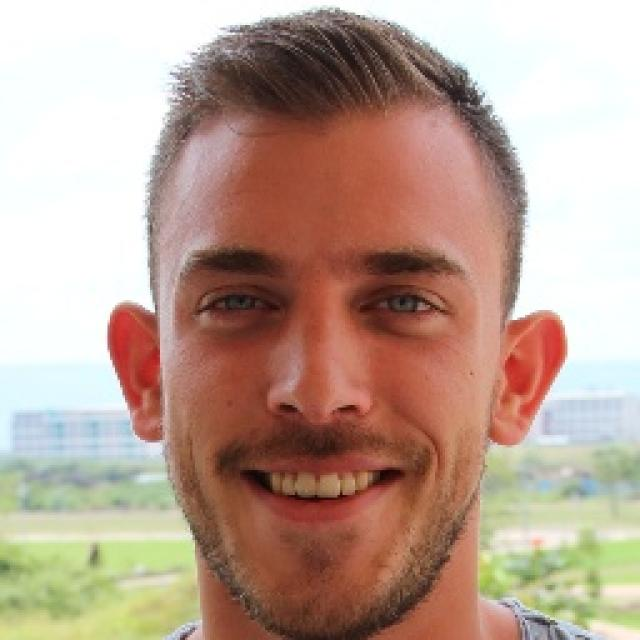earlobe: (489, 309, 570, 446), (106, 300, 166, 442)
